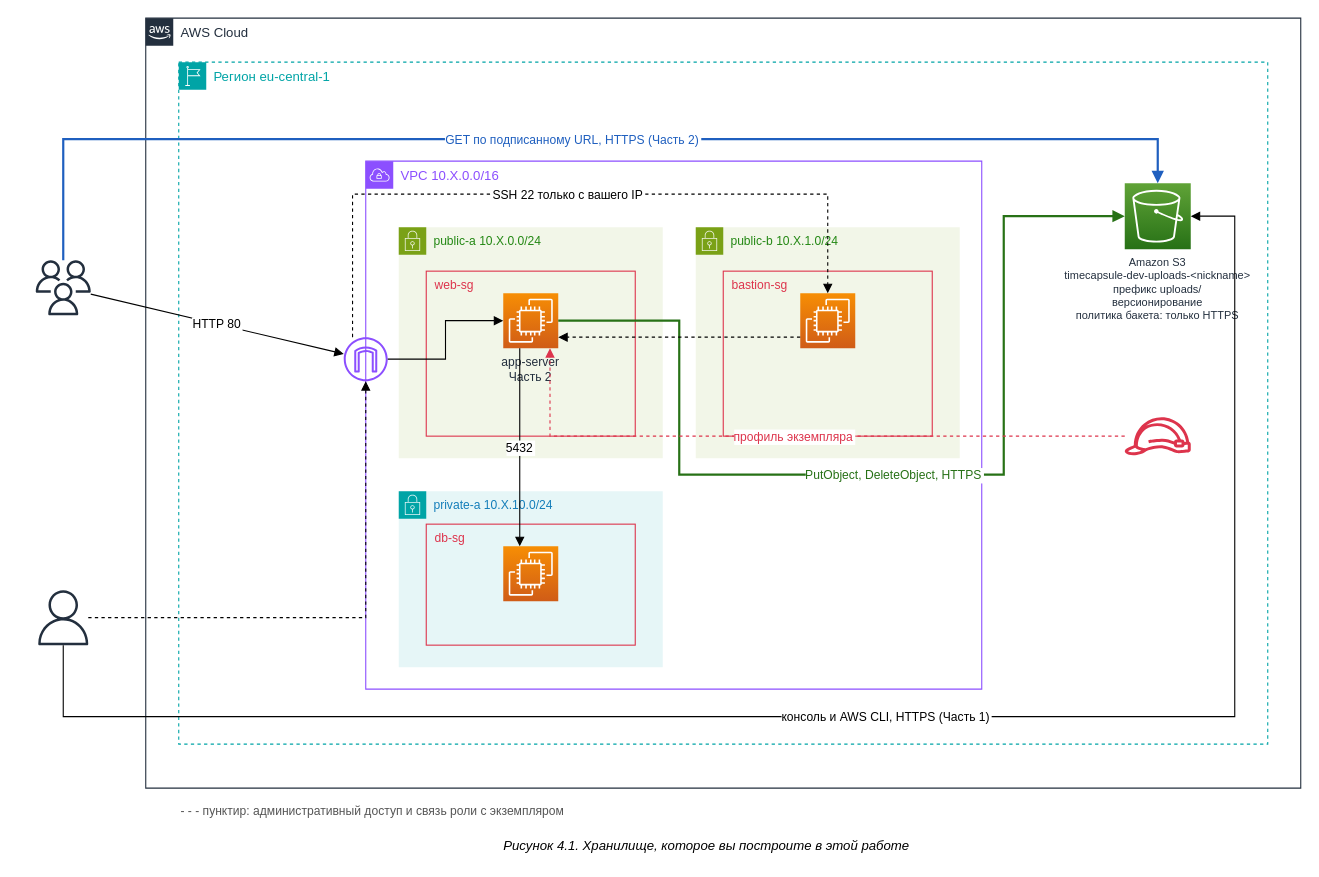
The diagram is 1319 pixels wide and 877 high, and some of its shapes have lost their labels. The centre of each missing label's shape, as x and y in pixels:
bastion: point 827,320
db-server PostgreSQL 16: point 530,573
IAM-роль timecapsule-dev-app-role права только на uploads/ Часть 2: point 1157,436
Internet Gateway: point 365,358
Ваш компьютер: point 62,617
Пользователи: point 62,287
